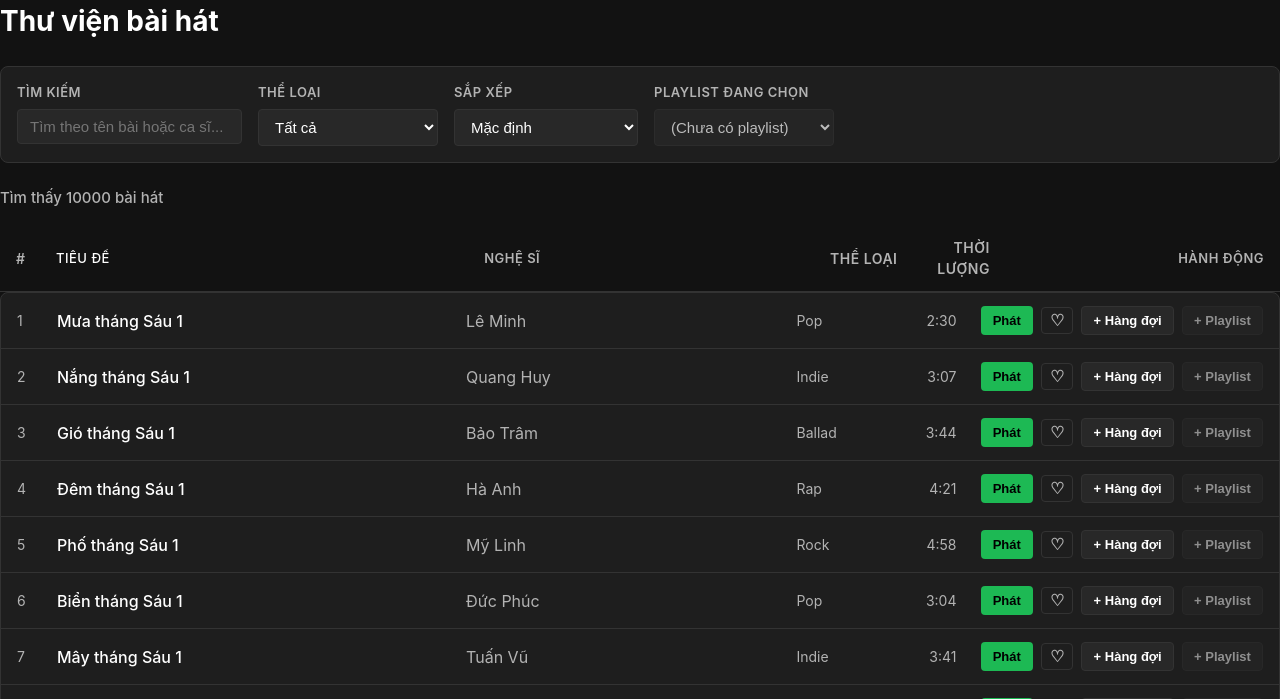
Test: LibraryPage component › tìm kiếm không khớp "xyz" hiển thị "Không tìm thấy bài hát nào"
The width and height of the screenshot is (1280, 699).
In the field labelled "Tìm kiếm": coordinates (130, 126) 17,109 -> 242,144, type "xyz"
Wait 300 ms
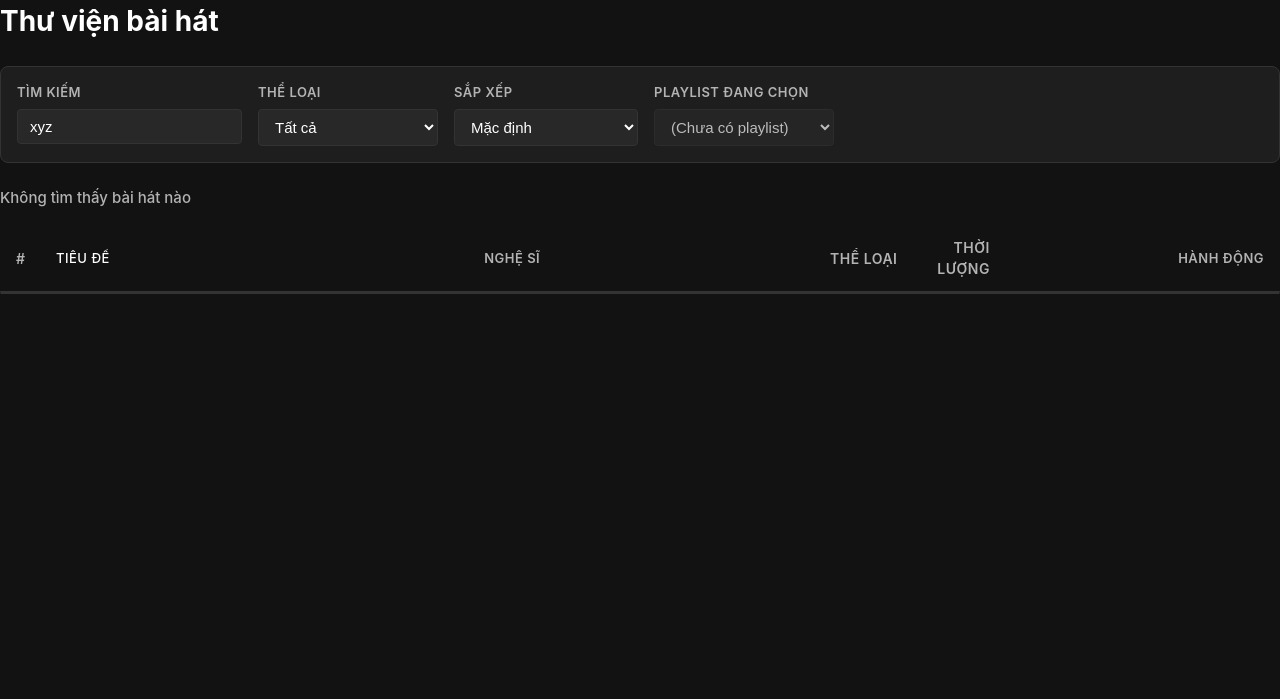
Result: the text "Không tìm thấy bài hát nào" is shown at 0,188 -> 191,207
